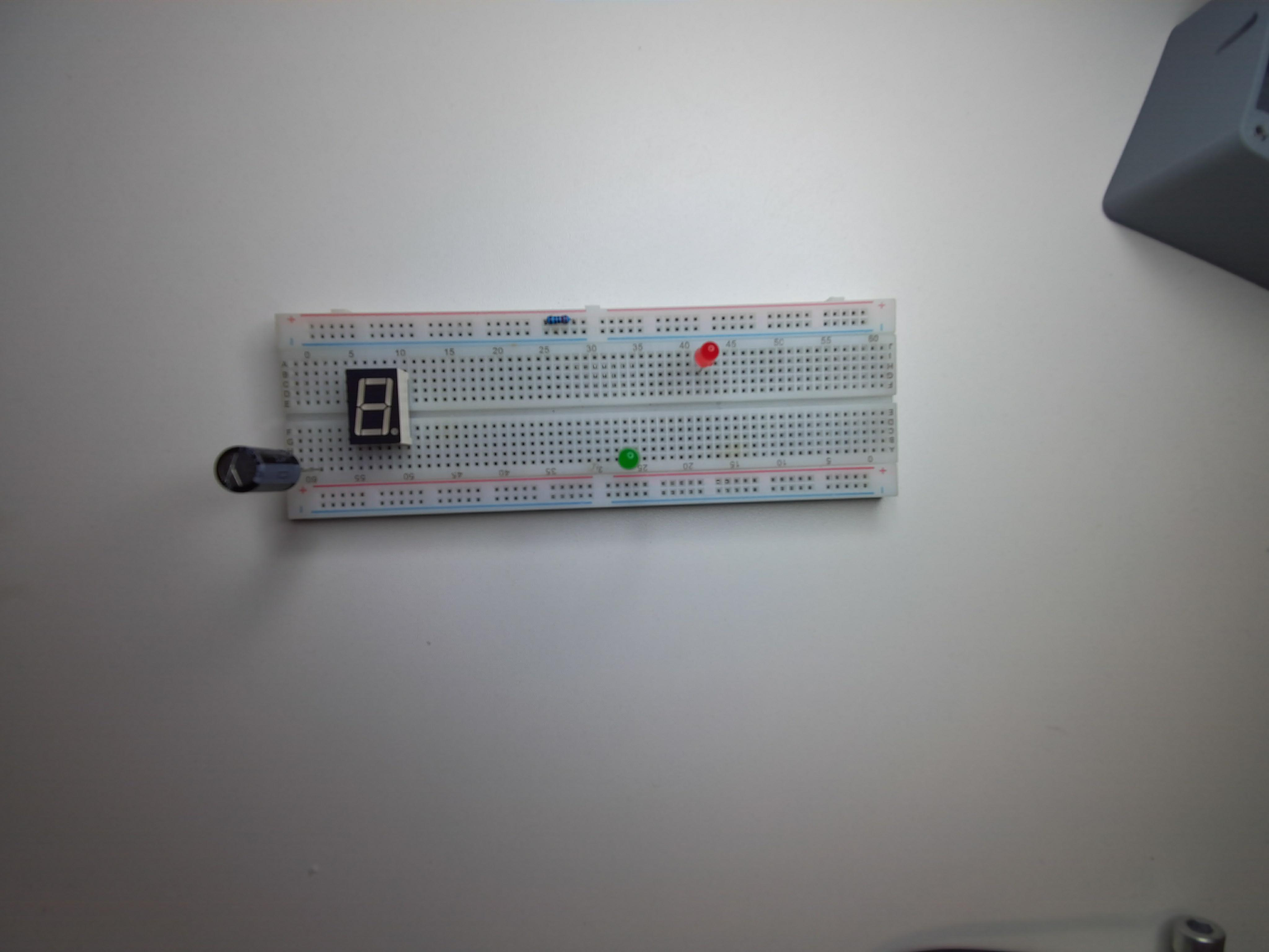base: (275, 301, 899, 526)
capacitor: (214, 436, 308, 501)
digit-board: (344, 365, 407, 448)
green-led: (619, 445, 641, 469)
red-led: (695, 340, 720, 366)
resistor-small: (539, 313, 573, 330)
